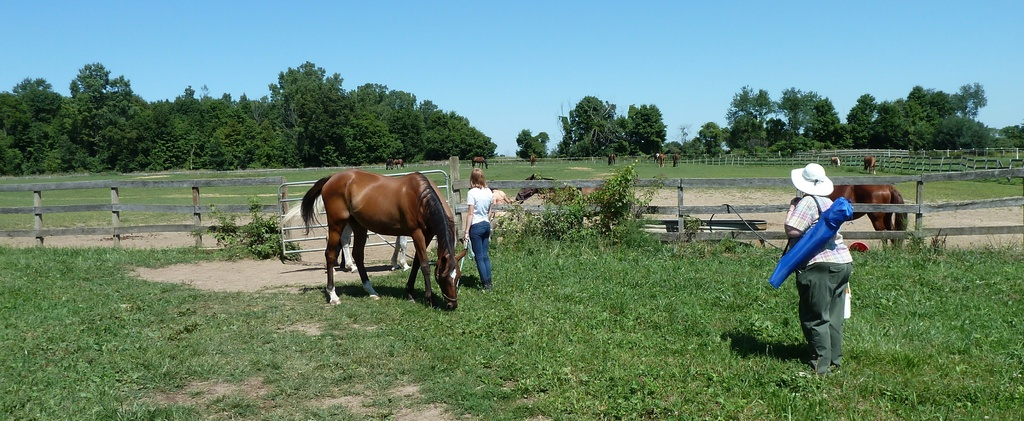horse: (302, 175, 471, 307), (860, 154, 876, 174), (470, 153, 488, 167), (528, 156, 535, 166)
